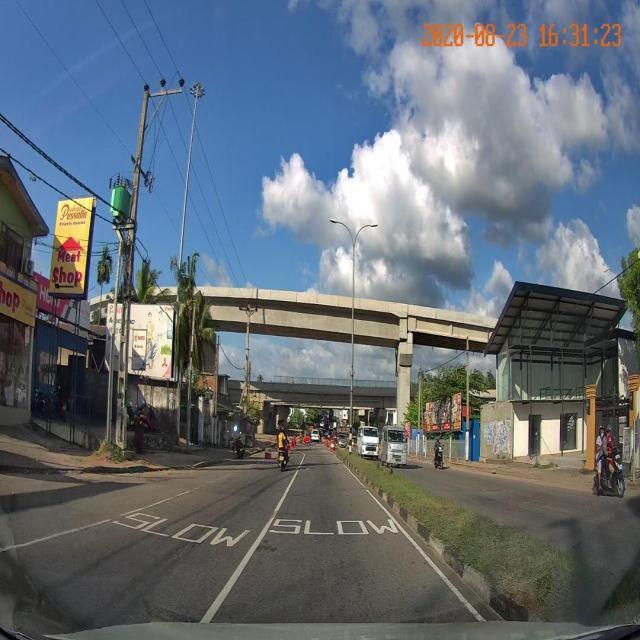Liniya 1: (344, 464, 495, 624), (199, 466, 303, 625), (2, 484, 201, 556)
SLOW: (109, 511, 252, 547), (267, 519, 400, 535)
